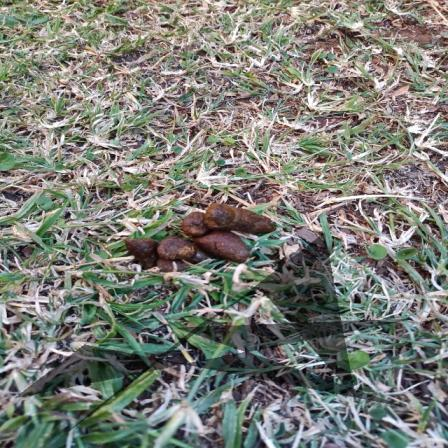dog-poop: (132, 197, 262, 268)
